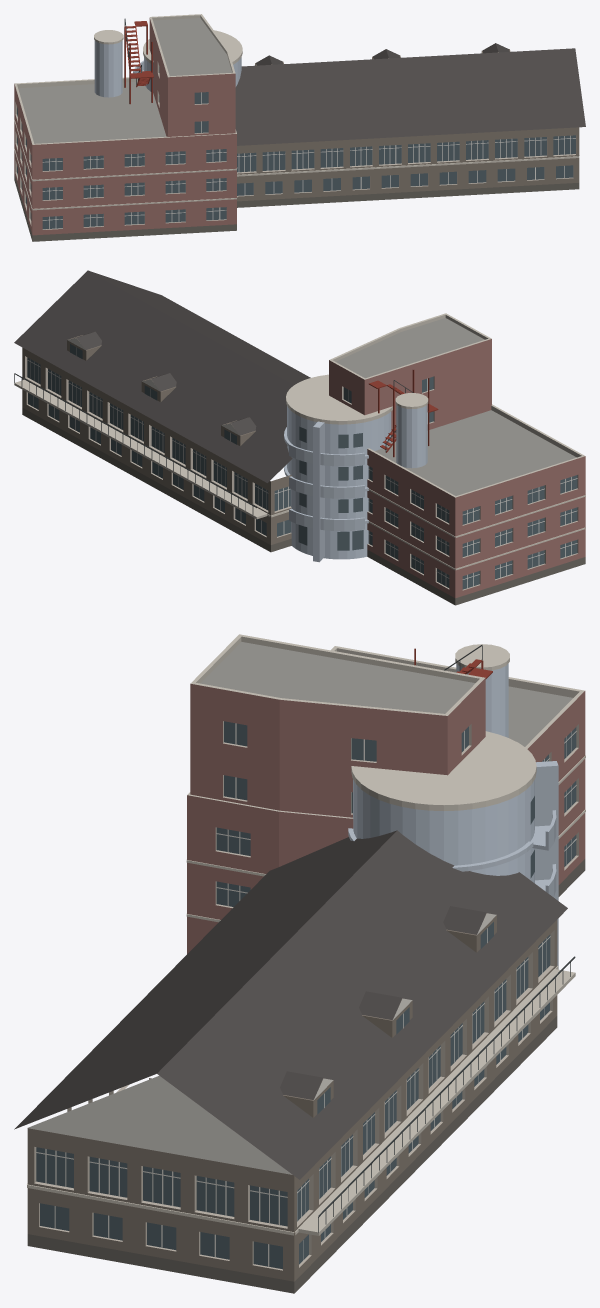
The picture shows the model from 3 angles, top to bottom: view 1: azimuth 30°, elevation 25°; view 2: azimuth 150°, elevation 25°; view 3: azimuth 270°, elevation 25°; orthographic projection. The views are drawn at different scales.
Visible parts, largest first — view 1: wing3__roof-slate, wing3__brick, wing3__glass, wing3__wall-plaster, wing3__roof, wing3__base-stone, wing3__parapet-concrete, wing3__frame, wing3__reveal-concrete, wing3__trim-concrete, wing3__drum-concrete, wing3__steel-stair; view 2: wing3__roof-slate, wing3__brick, wing3__glass, wing3__roof, wing3__parapet-concrete, wing3__wall-plaster, wing3__drum-concrete, wing3__frame-concrete, wing3__base-stone, wing3__reveal-concrete, wing3__frame, wing3__trim-concrete (+2 smaller); view 3: wing3__roof-slate, wing3__brick, wing3__wall-plaster, wing3__parapet-concrete, wing3__glass, wing3__roof, wing3__drum-concrete, wing3__gable-plaster, wing3__base-stone, wing3__reveal-concrete, wing3__frame-concrete, wing3__frame (+2 smaller).
Boxes of the visible parts, x1=… form: wing3__roof-slate: x1=235, y1=43, x2=585, y2=145; wing3__brick: x1=14, y1=18, x2=236, y2=235; wing3__glass: x1=17, y1=67, x2=575, y2=229; wing3__wall-plaster: x1=237, y1=49, x2=579, y2=201; wing3__roof: x1=18, y1=18, x2=231, y2=143; wing3__base-stone: x1=14, y1=174, x2=579, y2=241; wing3__parapet-concrete: x1=14, y1=14, x2=242, y2=144; wing3__frame: x1=42, y1=92, x2=575, y2=228; wing3__reveal-concrete: x1=15, y1=61, x2=576, y2=229; wing3__trim-concrete: x1=14, y1=118, x2=579, y2=210; wing3__drum-concrete: x1=94, y1=40, x2=241, y2=97; wing3__steel-stair: x1=124, y1=21, x2=153, y2=104; wing3__roof-slate: x1=14, y1=270, x2=310, y2=482; wing3__brick: x1=329, y1=339, x2=585, y2=598; wing3__glass: x1=27, y1=344, x2=577, y2=589; wing3__roof: x1=335, y1=318, x2=576, y2=495; wing3__parapet-concrete: x1=14, y1=313, x2=584, y2=519; wing3__wall-plaster: x1=22, y1=335, x2=291, y2=544; wing3__drum-concrete: x1=287, y1=404, x2=427, y2=559; wing3__frame-concrete: x1=284, y1=421, x2=368, y2=562; wing3__base-stone: x1=22, y1=408, x2=585, y2=605; wing3__reveal-concrete: x1=25, y1=356, x2=578, y2=590; wing3__frame: x1=27, y1=347, x2=577, y2=588; wing3__trim-concrete: x1=22, y1=378, x2=585, y2=570; wing3__roof-slate: x1=14, y1=830, x2=567, y2=1179; wing3__brick: x1=187, y1=678, x2=585, y2=953; wing3__wall-plaster: x1=27, y1=913, x2=557, y2=1281; wing3__parapet-concrete: x1=187, y1=634, x2=584, y2=1235; wing3__glass: x1=36, y1=721, x2=576, y2=1269; wing3__roof: x1=200, y1=642, x2=572, y2=746; wing3__drum-concrete: x1=353, y1=663, x2=534, y2=883; wing3__gable-plaster: x1=27, y1=913, x2=496, y2=1174; wing3__base-stone: x1=27, y1=859, x2=585, y2=1293; wing3__reveal-concrete: x1=34, y1=721, x2=578, y2=1270; wing3__frame-concrete: x1=348, y1=761, x2=558, y2=969; wing3__frame: x1=36, y1=723, x2=576, y2=1266.
Bounding box in the file's own units: 67.78 × 20.07 × 34.58.
